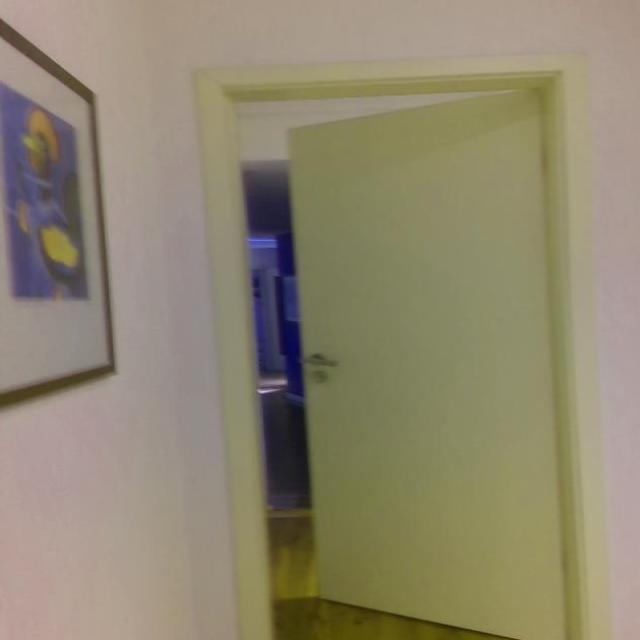door: (285, 85, 570, 638)
